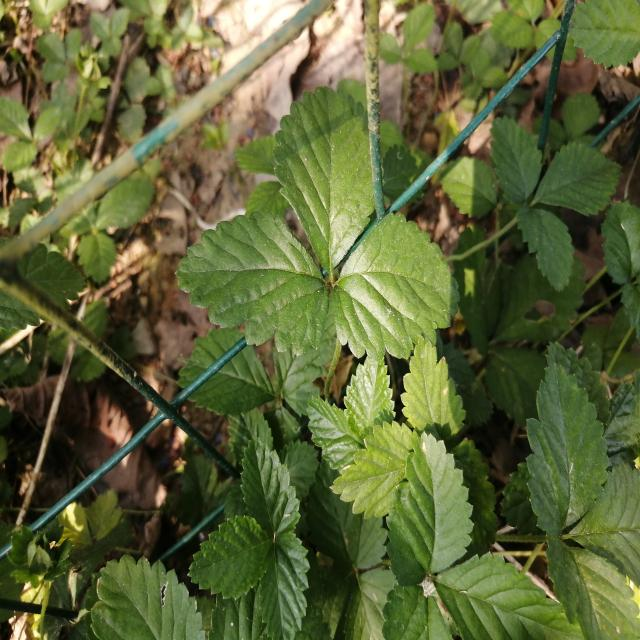Mock_strawberry: (180, 88, 458, 364), (325, 353, 555, 632)
